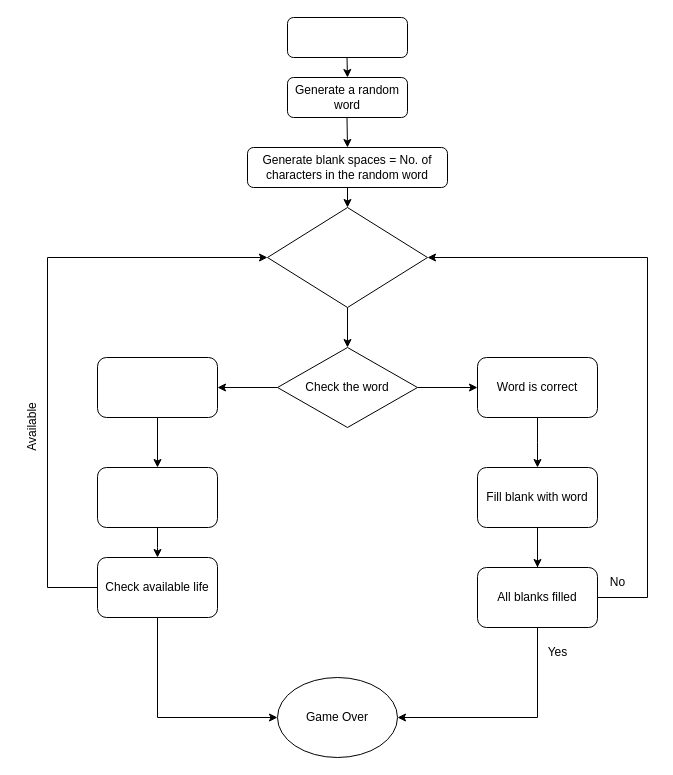
This 673x775 diagram has some shape labels left out. The shapes that lost their labels are listed below. From the top down, each one's centre as x and y in pixels, then its label:
At [347,37]: "Start".
At [347,257]: "Ask user to enter a word".
At [157,387]: "Word is Incorrect".
At [157,497]: "Lose a life".
